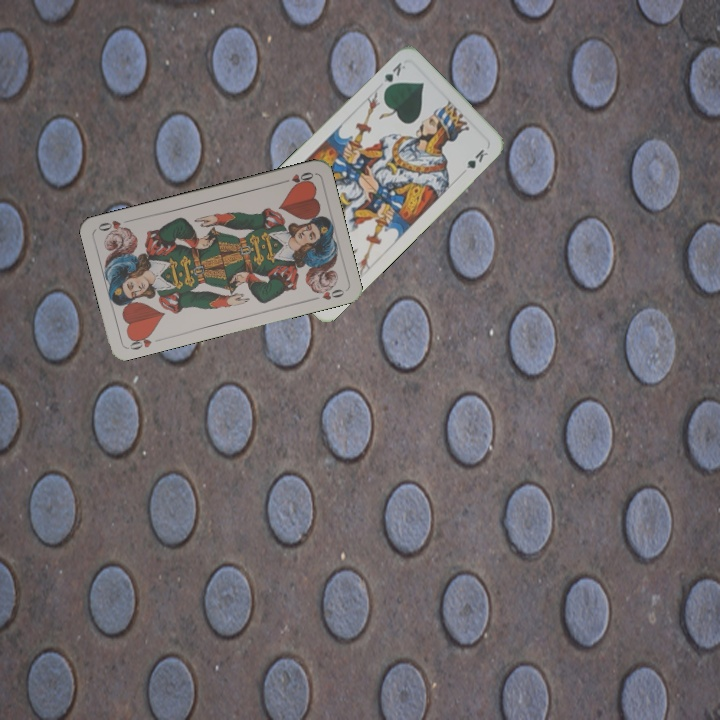GK: (380, 58, 408, 94)
HO: (277, 168, 316, 188), (124, 329, 155, 352)
